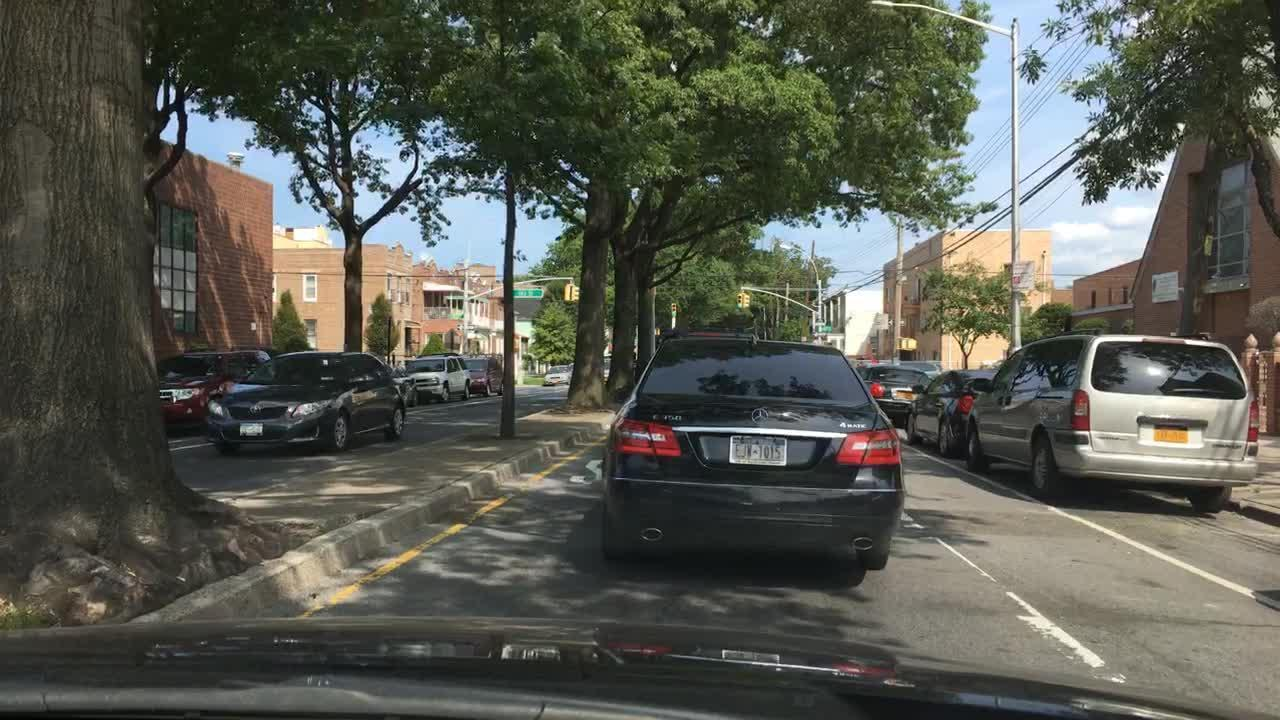Mercedes: (740, 399, 778, 434)
